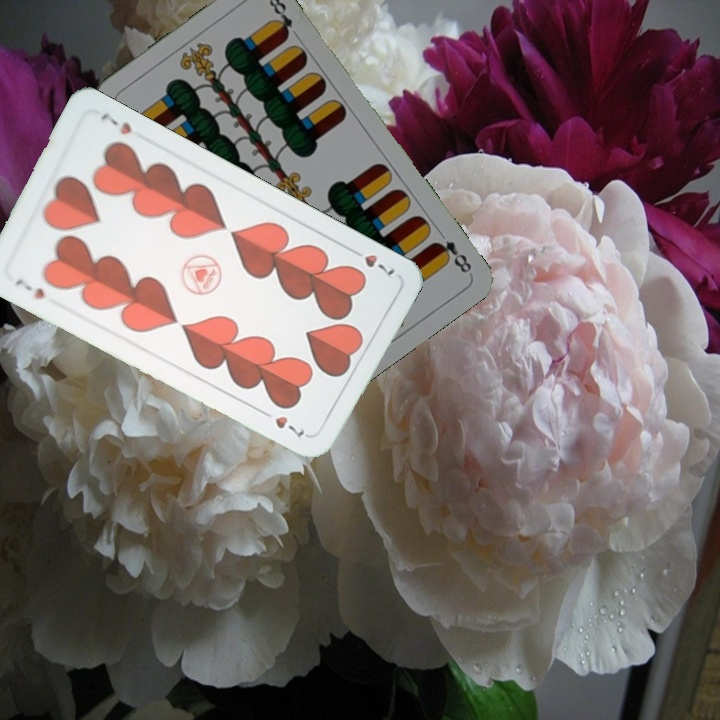E8: (429, 236, 474, 276)
H7: (345, 244, 398, 280), (11, 275, 48, 302)
